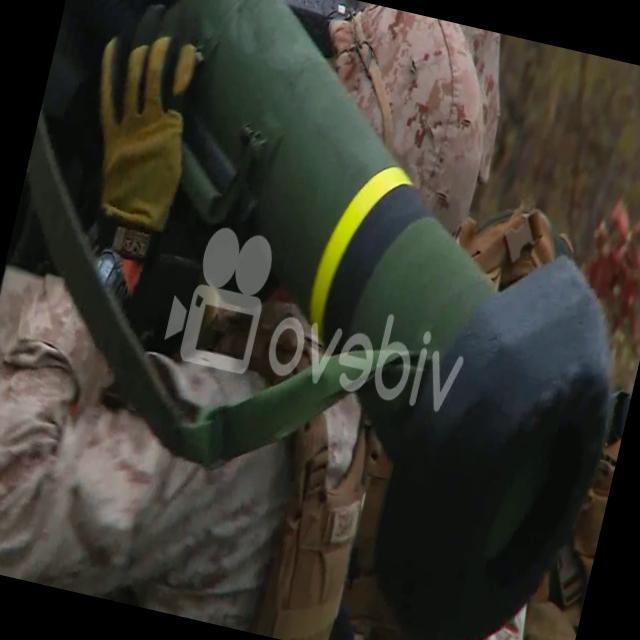rocket: (84, 0, 640, 640)
